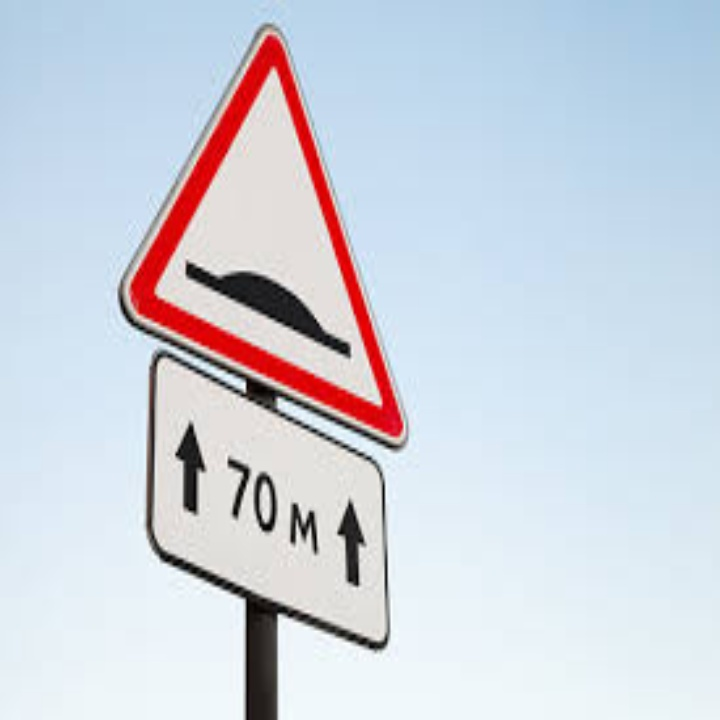bump: (169, 225, 371, 389)
